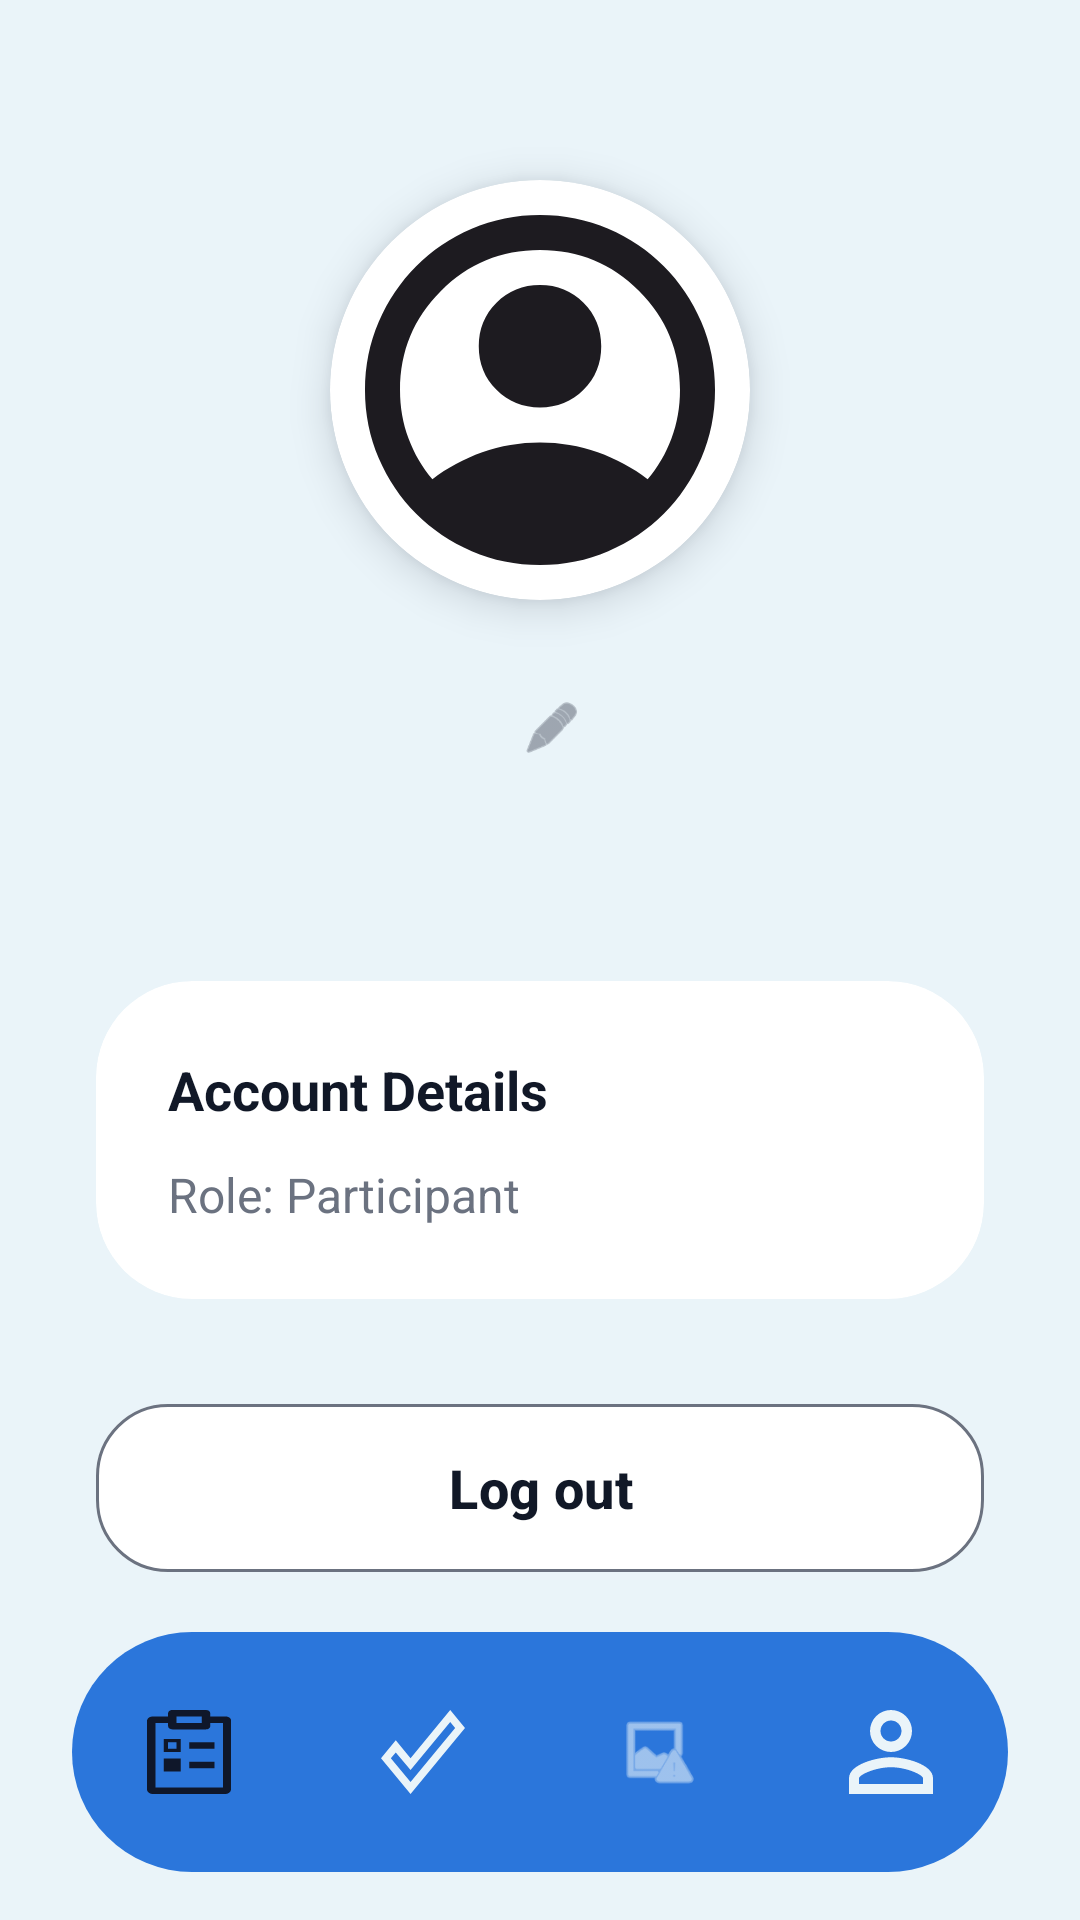

Named icons in this screenshot (1080px×1920px) and their bounding boxes, (x1, y1, x2, y2):
edit: (527, 702, 577, 753)
